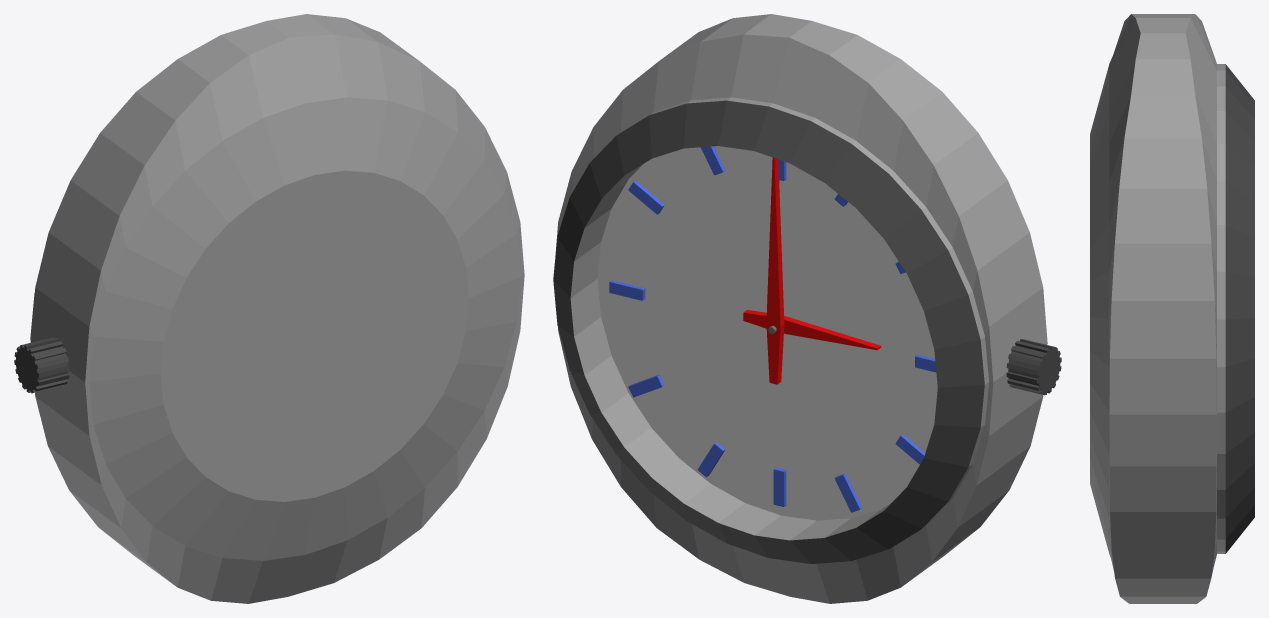
Rendered from jam.fbx.
3 renders of one model, left to right at view 1: azimuth 30°, elevation 25°; view 2: azimuth 150°, elevation 25°; view 3: azimuth 270°, elevation 25°, orthographic.
Visible parts, largest first — view 1: Cylinder, Cylinder.002; view 2: Cylinder, Cube, Cylinder.002, Cube.001, Cube.004, Cube.005, Cube.003, Cube.002; view 3: Cylinder.
Boxes of the visible parts, x1,y1,x2,y2 form: Cylinder: (30, 14, 524, 603); Cylinder.002: (14, 337, 69, 393); Cylinder: (553, 14, 1047, 603); Cube: (766, 157, 784, 384); Cylinder.002: (1006, 339, 1061, 395); Cube.001: (743, 310, 881, 350); Cube.004: (697, 146, 862, 512); Cube.005: (628, 180, 925, 464); Cube.003: (609, 280, 936, 372); Cube.002: (773, 159, 786, 506); Cylinder: (1090, 14, 1254, 603).
Bounding box in the file's own units: 218 × 248 × 67.14.
